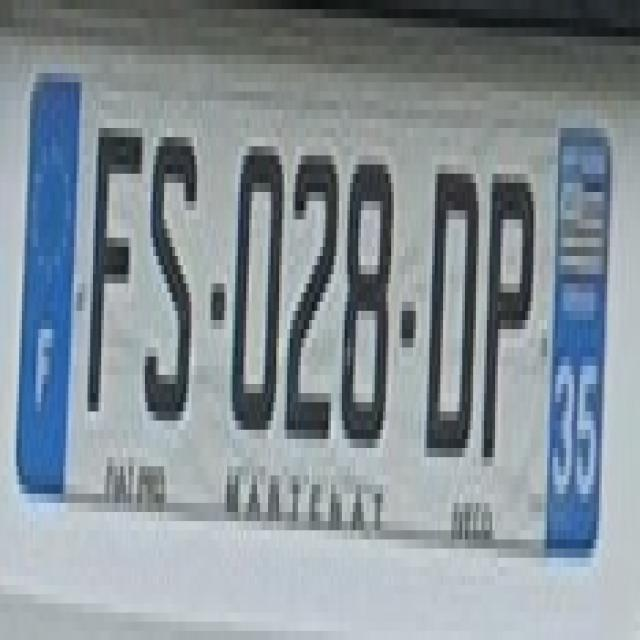EU: (13, 80, 609, 549)
France: (21, 86, 78, 494)
